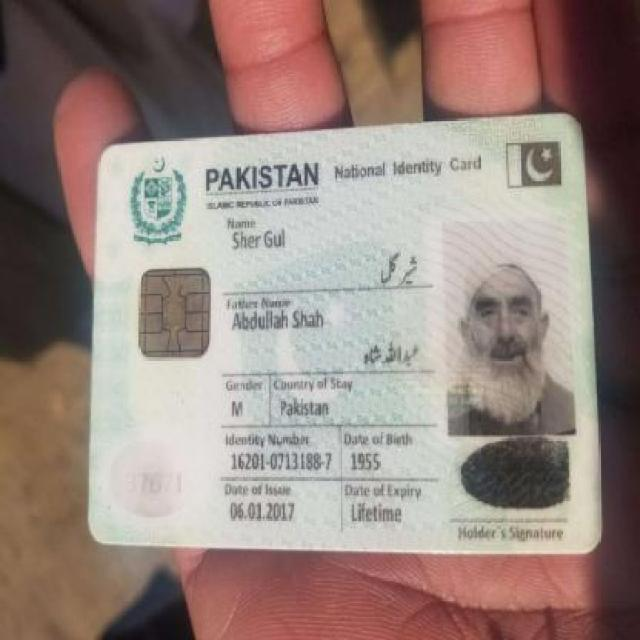Front: (71, 115, 609, 556)
